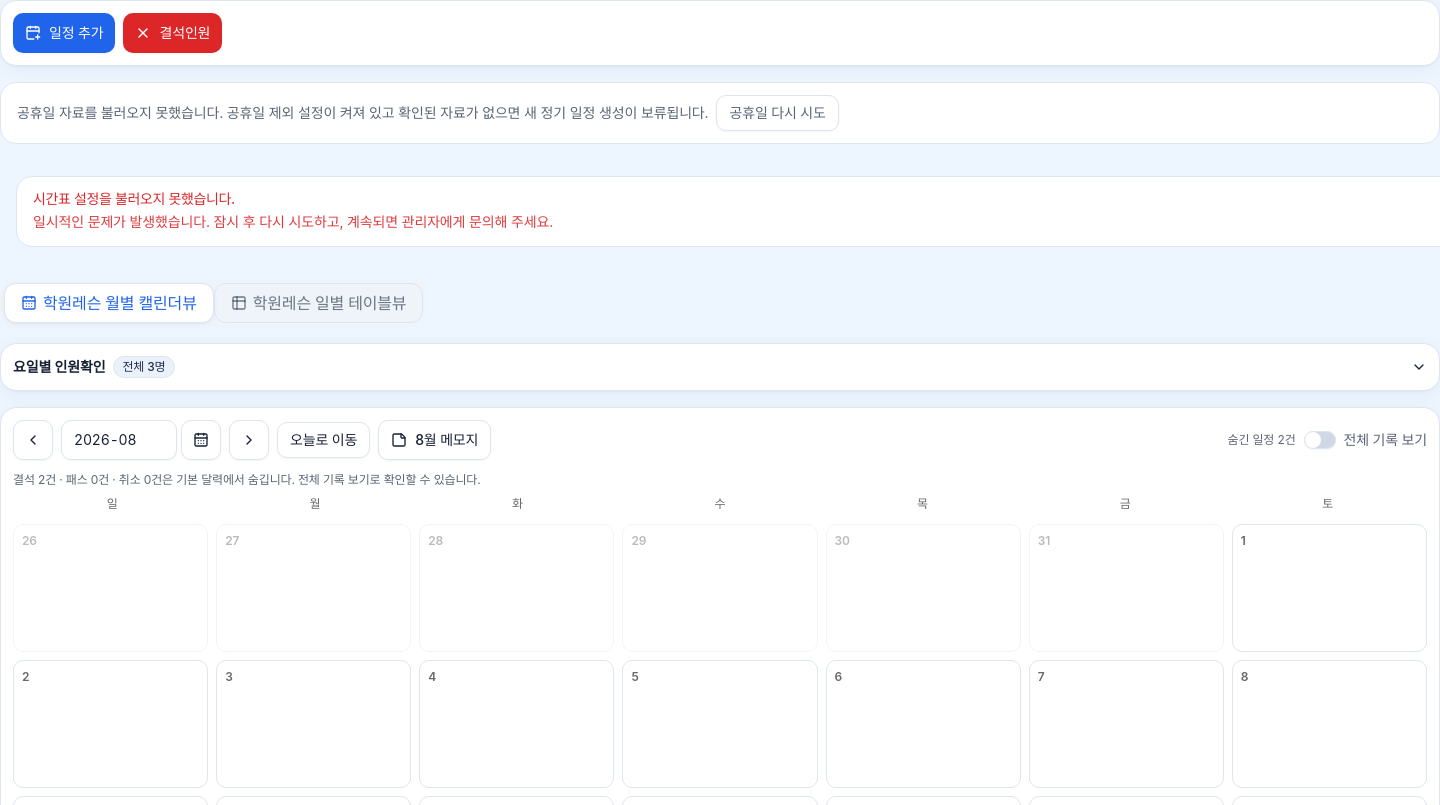
월별 메모지 (실서비스 경로) › 저장하면 학원·레슨 종류·월과 내용을 서버에 넘기고 미확인으로 보여 준다
Click the button "8월 메모지". click: (435,440)
box: [378,420,491,460]
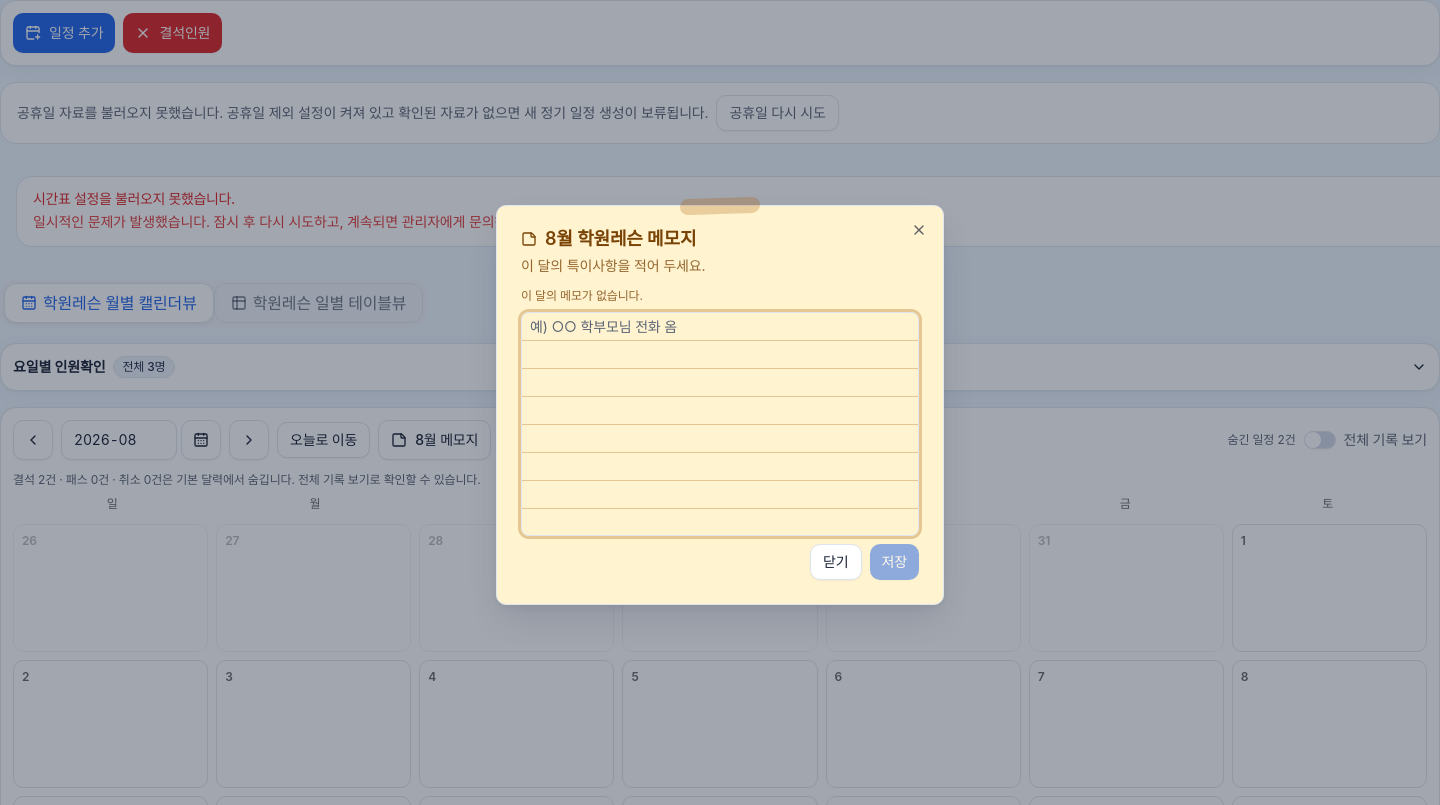
Type "새 메모" into the text box named "8월 메모 내용". click: (720,424)
box: [521,312,919,536]
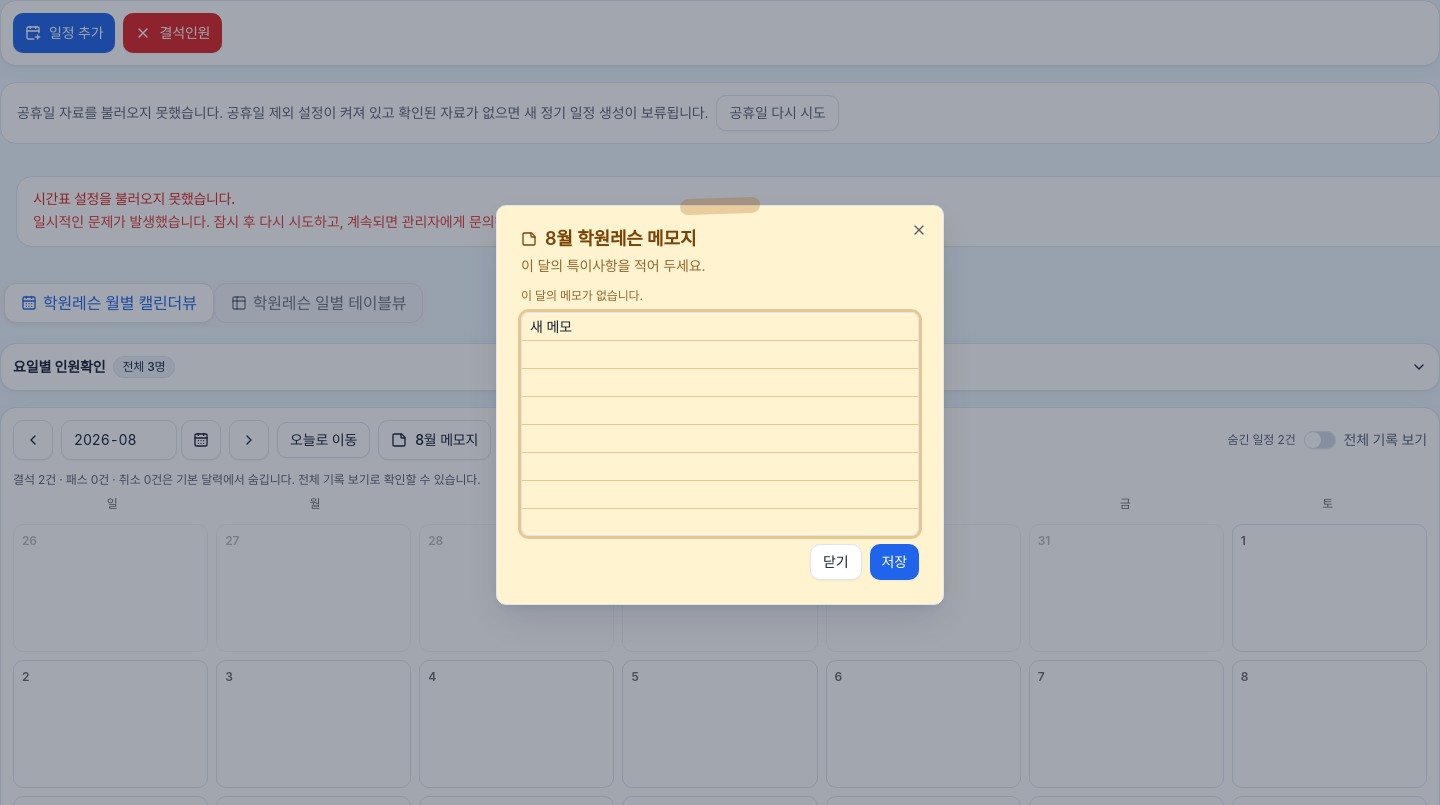
Click the button "저장". click: (894,562)
box: [870,544,919,580]
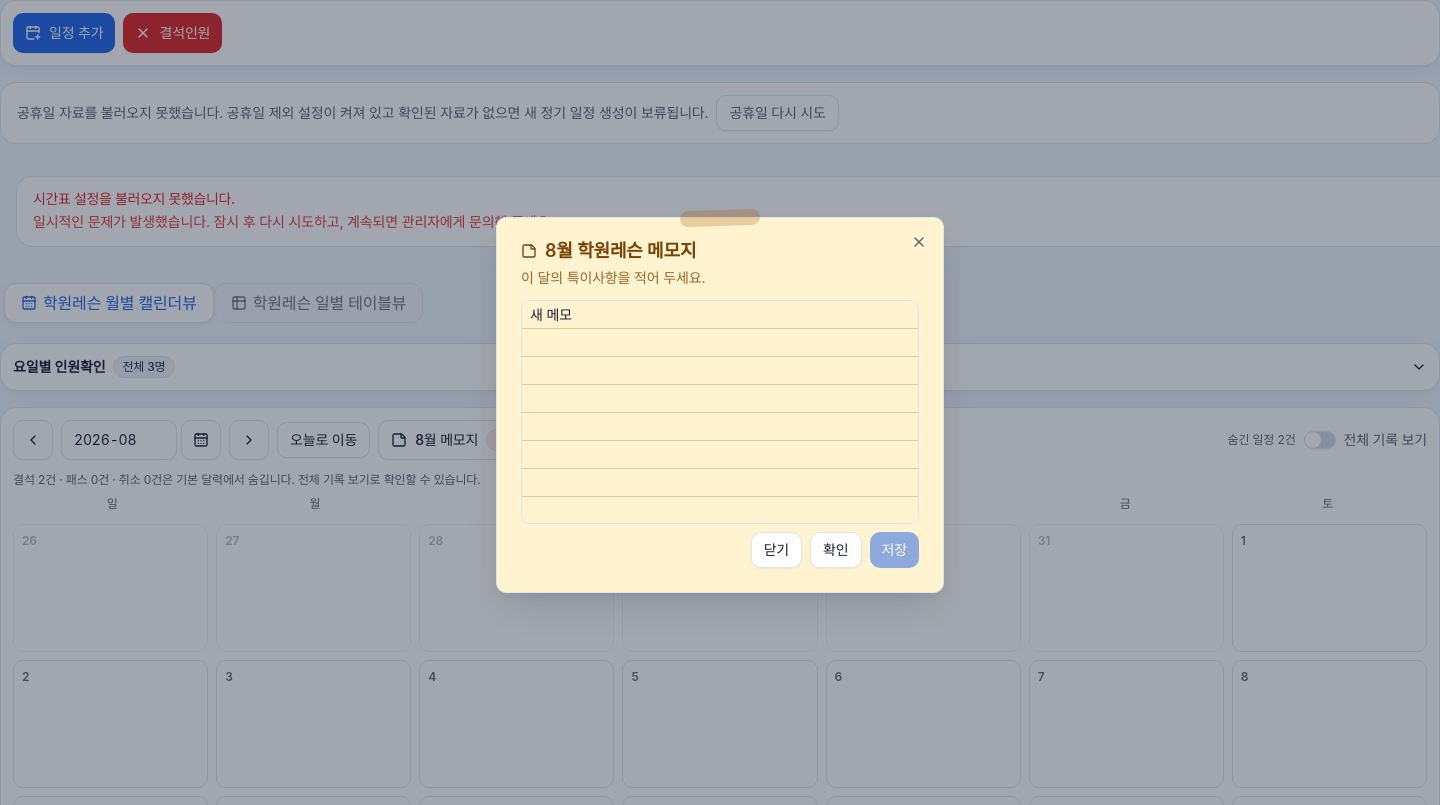
Expected: the text "미확인" is shown, [486,429,537,451]
